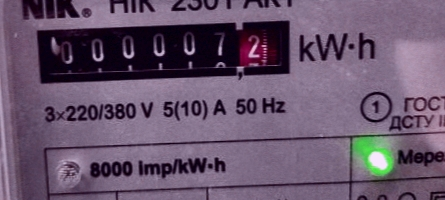0: (89, 36, 107, 65), (119, 34, 138, 61), (58, 39, 76, 66), (181, 30, 198, 58), (151, 31, 167, 59)
2: (246, 32, 263, 62)
7: (211, 30, 228, 59)
screen: (29, 13, 303, 90)
